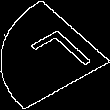L_SE: (16, 25, 94, 85)
